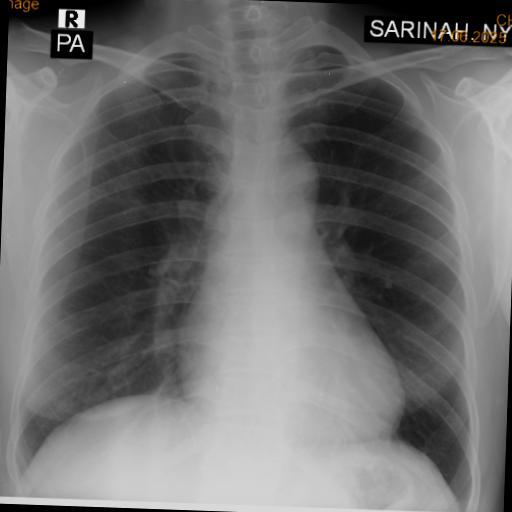kardiomegali: (164, 250, 418, 453)
